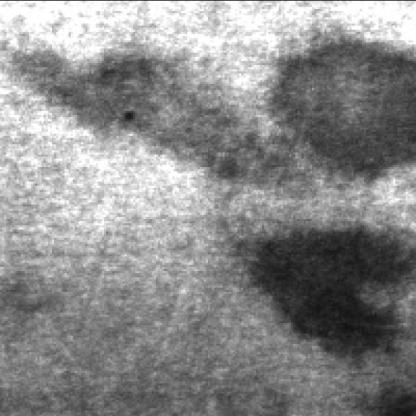patches: (19, 48, 241, 181), (253, 227, 416, 364), (272, 40, 416, 176)
